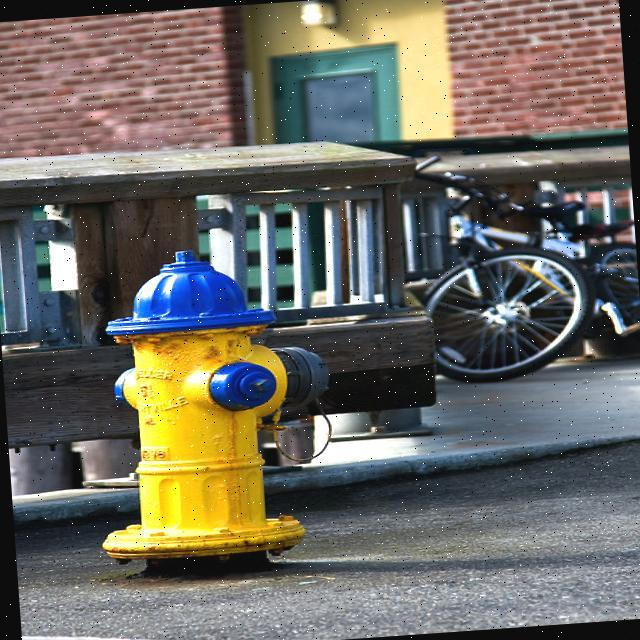fire_hydrant: (79, 241, 341, 577)
